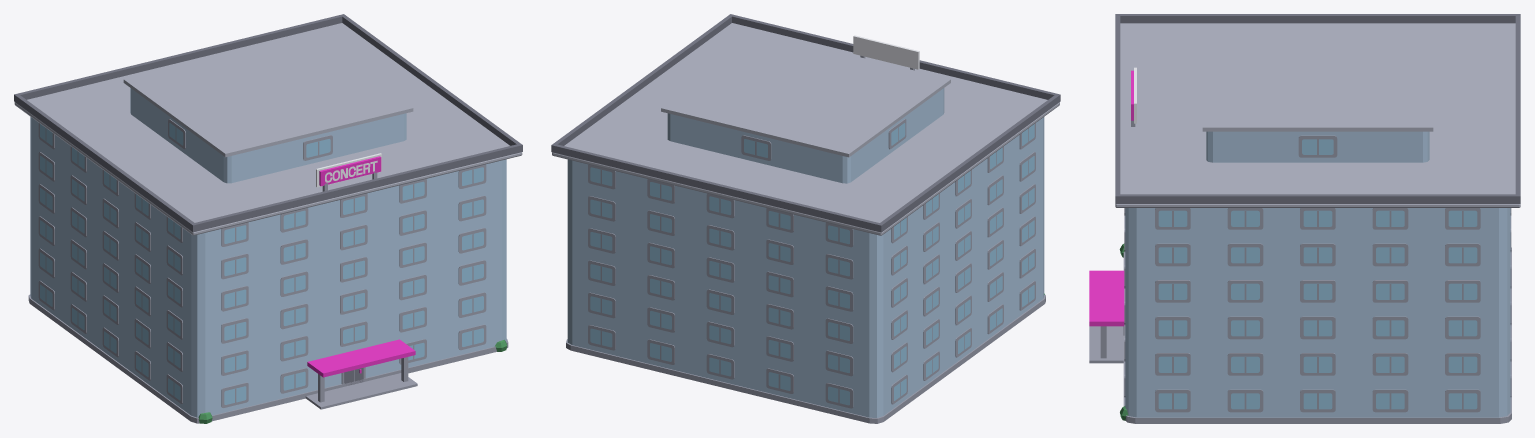
File: concert-hall-3x3-6f.glb
3 views of the same model, side by side, from view 1: azimuth 30°, elevation 25°; view 2: azimuth 150°, elevation 25°; view 3: azimuth 270°, elevation 25° (orthographic). The views are drawn at different scales.
Visible parts, largest first — view 1: concert-hall-3x3-6f; view 2: concert-hall-3x3-6f; view 3: concert-hall-3x3-6f.
Part boxes in pixels (x1,y1,x2,y2): concert-hall-3x3-6f: [14, 14, 522, 423]; concert-hall-3x3-6f: [551, 14, 1060, 423]; concert-hall-3x3-6f: [1089, 14, 1520, 423].
Size of the model in its own units: 3 by 2 by 3.
1 material, 1 textured.
